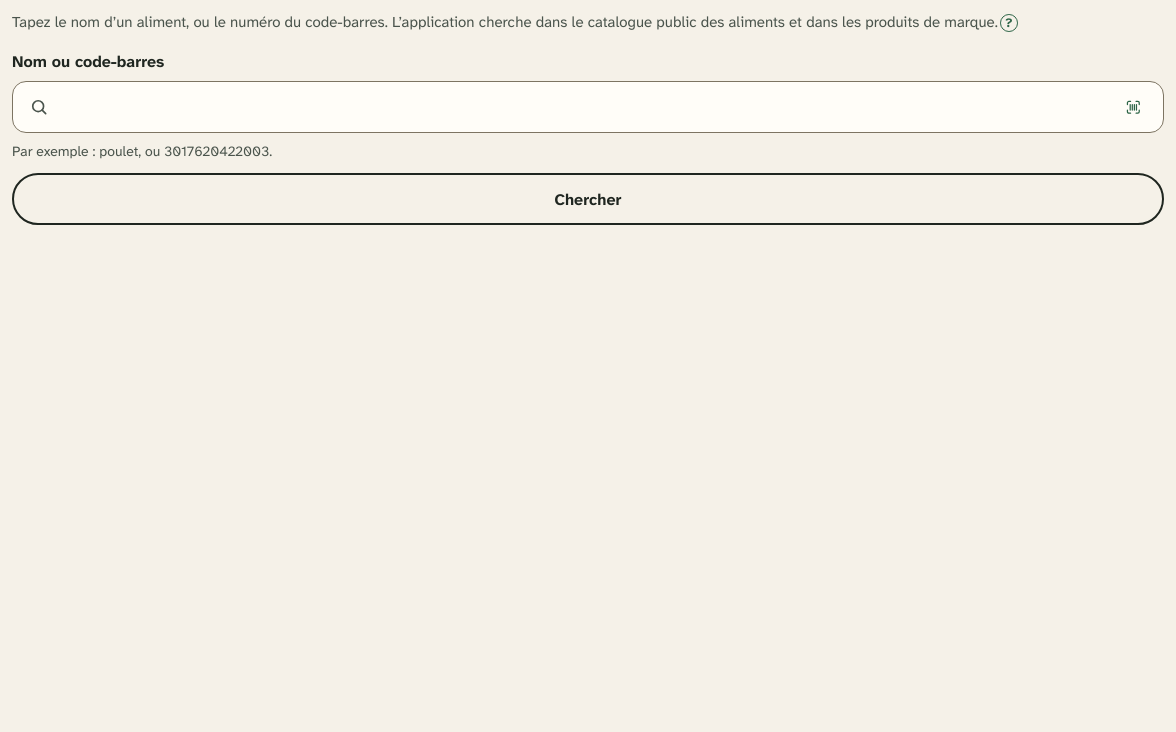
Scenario: FoodPicker — recherche sans résultat › Open Food Facts n’a pas répondu : ne le fait pas passer pour une absence
Step 1. Type "skyr" into the search field labelled "Nom ou code-barres" → (580, 107), box [57, 82, 1103, 132]
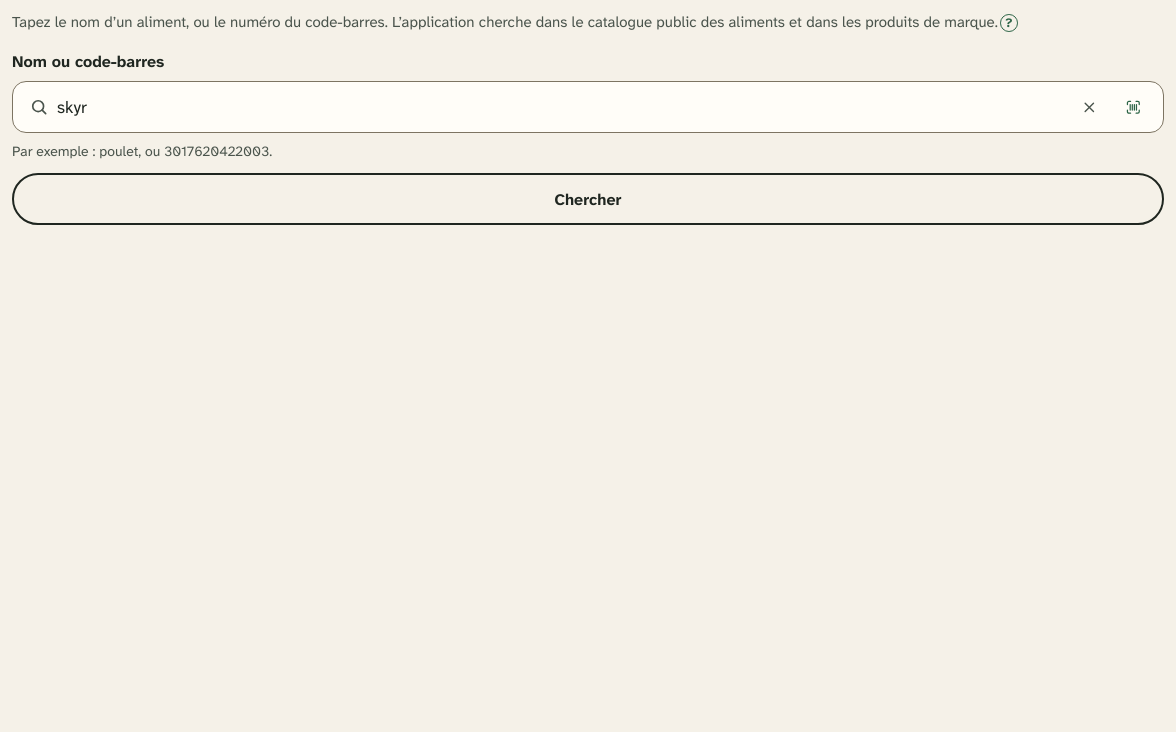
Step 2. Submit the form, box [12, 50, 1164, 225]
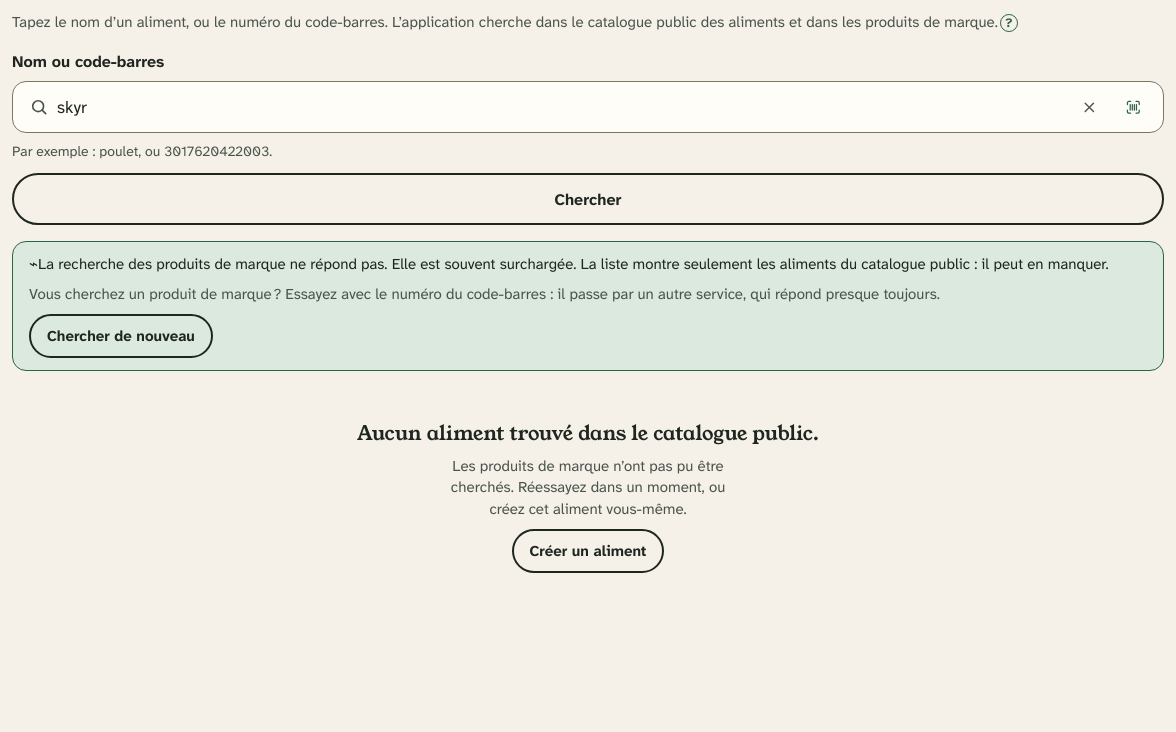
expect the text "La recherche des produits de marque ne répond pas" is shown: met, box [38, 254, 1109, 274]
expect the text "Aucun aliment trouvé dans le catalogue public." is shown: met, box [357, 419, 819, 448]
expect the text "Les produits de marque n’ont pas pu être cherchés." is shown: met, box [451, 456, 725, 519]
